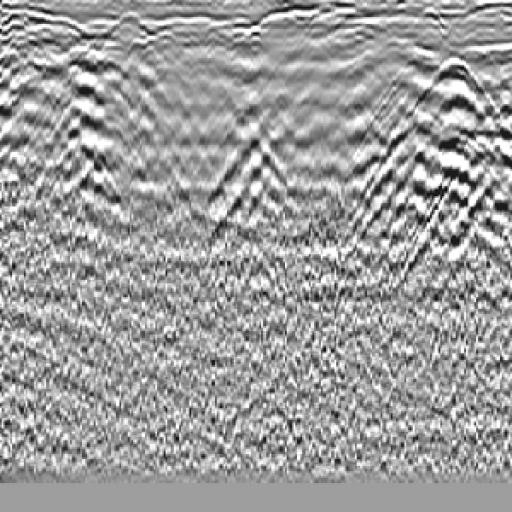non-metallic: (345, 45, 512, 285), (21, 34, 169, 246)
